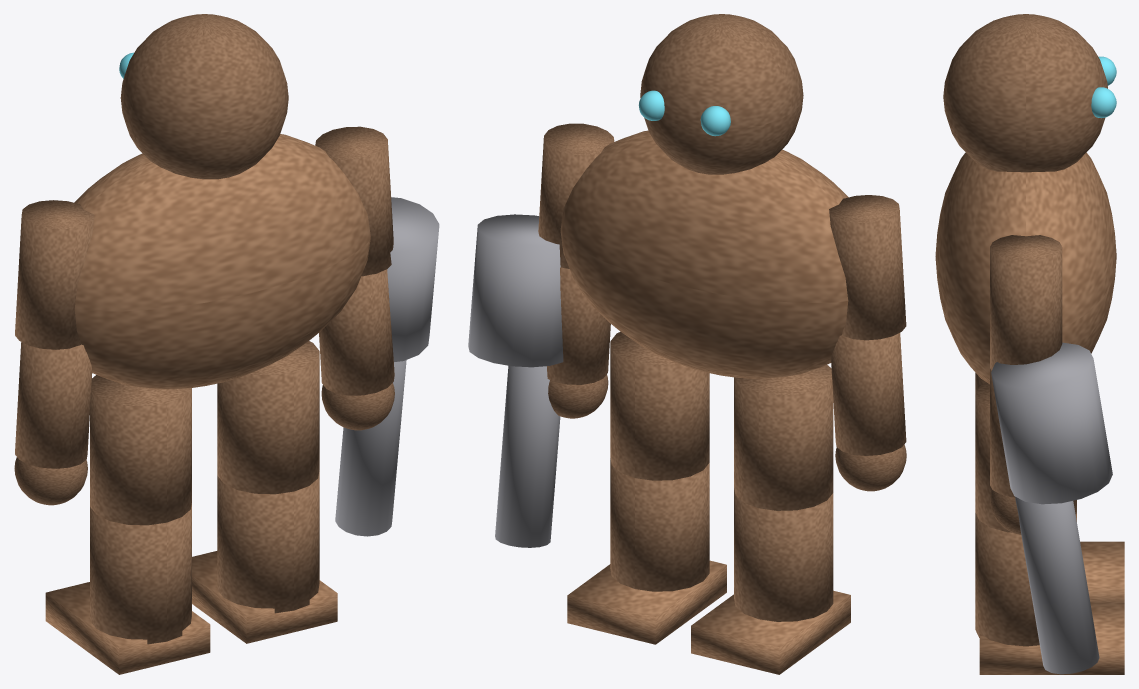
The model's file is marsh-troll.glb.
The picture shows the model from 3 angles, left to right: view 1: azimuth 30°, elevation 25°; view 2: azimuth 150°, elevation 25°; view 3: azimuth 270°, elevation 25°; orthographic projection. The views are drawn at different scales.
Visible parts, largest first — view 1: Torso, Head, ThighL, ThighR, ShinR, ShinL, UpperArmL, ForearmL, ForearmR, ClubShaft, ClubHead, FootL (+4 smaller); view 2: Torso, Head, ThighL, ClubHead, ThighR, ShinR, ShinL, ClubShaft, UpperArmL, ForearmL, FootR, FootL (+6 smaller); view 3: Torso, Head, ClubHead, ClubShaft, UpperArmR, ShinR, FootR, FootL, ThighR, ForearmR, HandR, Eye.001 (+1 smaller).
Boxes of the visible parts, x1,y1,x2,y2 form: Torso: (74,134,370,389); Head: (120,14,288,179); ThighL: (90,375,191,525); ThighR: (217,341,319,494); ShinR: (217,470,319,613); ShinL: (90,503,191,644); UpperArmL: (15,200,94,349); ForearmL: (15,342,92,468); ForearmR: (319,269,394,395); ClubShaft: (335,360,406,536); ClubHead: (387,197,439,361); FootL: (45,582,210,674); Torso: (560,130,848,378); Head: (640,14,803,174); ThighL: (734,365,833,510); ClubHead: (468,214,563,367); ThighR: (610,332,709,480); ShinR: (610,458,709,591); ShinL: (734,488,833,621); ClubShaft: (495,365,560,547); UpperArmL: (829,195,906,340); ForearmL: (831,333,906,455); FootR: (567,560,726,644); FootL: (691,590,850,674); Torso: (935,152,1116,384); Head: (943,14,1107,172); ClubHead: (991,342,1112,504); ClubShaft: (1015,497,1099,674); UpperArmR: (990,235,1062,370); ShinR: (975,512,1076,646); FootR: (979,603,1124,674); FootL: (1080,541,1124,602); ThighR: (975,382,1076,532); ForearmR: (990,368,1015,497); HandR: (990,489,1021,534); Eye.001: (1091,87,1116,118).
Size of the model in its own units: 0.7246 by 1 by 0.2852.
Materials: 4 (2 with a texture image).
